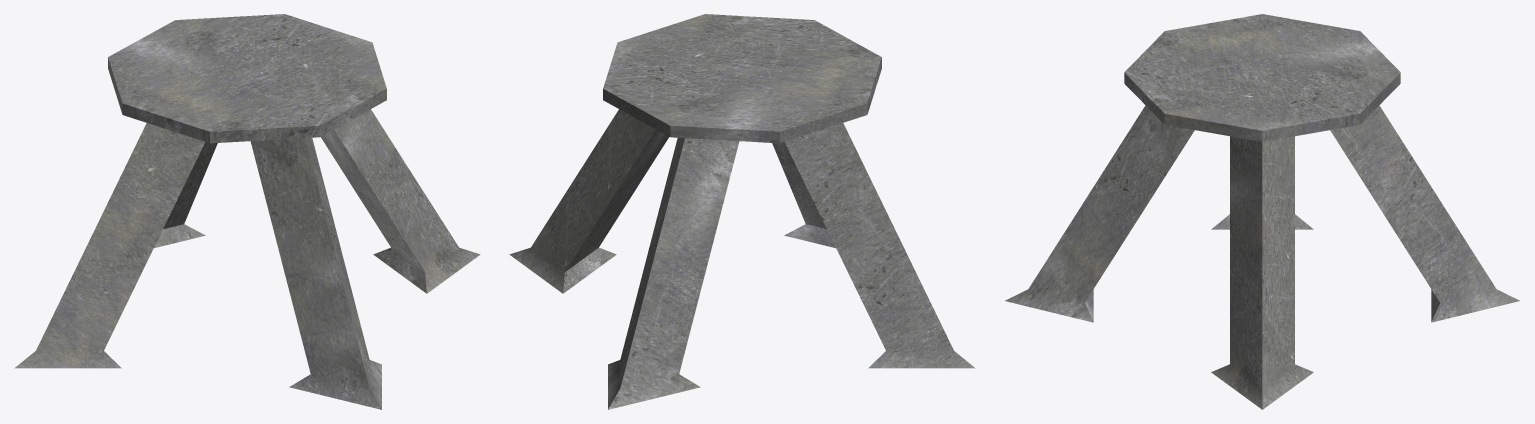
The model's file is BaseTorretta.fbx.
3 renders of one model, left to right at view 1: azimuth 30°, elevation 25°; view 2: azimuth 150°, elevation 25°; view 3: azimuth 270°, elevation 25°, orthographic. The views are drawn at different scales.
Visible parts, largest first — view 1: Turret_Base; view 2: Turret_Base; view 3: Turret_Base.
Boxes of the visible parts, <box> form: Turret_Base: <box>14,14,480,409</box>; Turret_Base: <box>509,14,975,409</box>; Turret_Base: <box>1005,14,1519,409</box>.
Bounding box in the file's own units: 2.64 × 1.29 × 2.64.
1 material, 1 textured.
